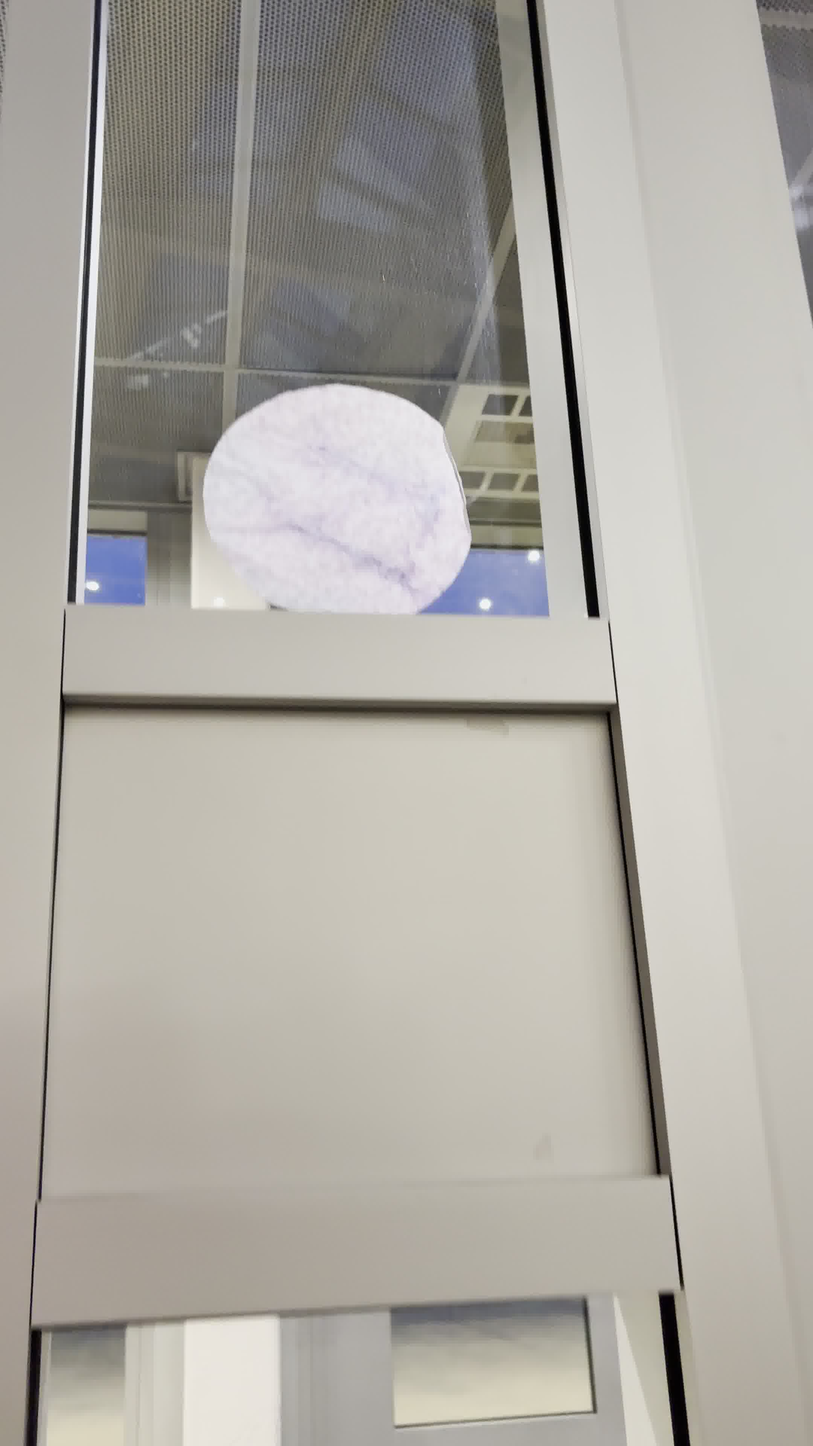Target: (200, 384, 471, 619)
